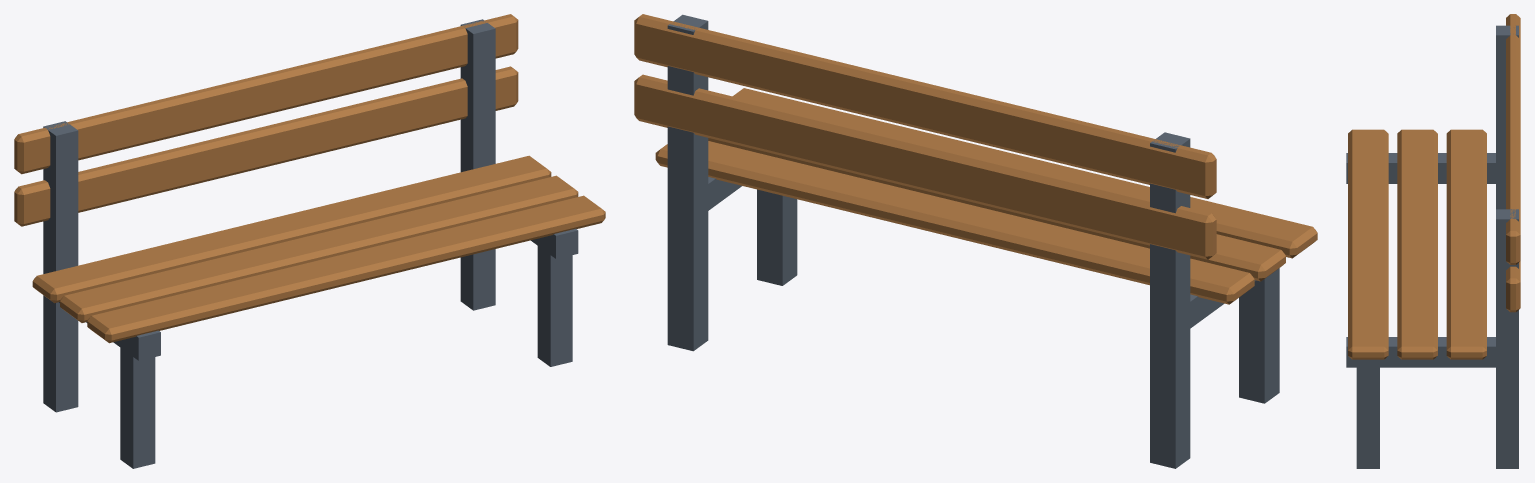
File: bench.glb
The picture shows the model from 3 angles, left to right: view 1: azimuth 30°, elevation 25°; view 2: azimuth 150°, elevation 25°; view 3: azimuth 270°, elevation 25°; orthographic projection. The views are drawn at different scales.
Visible parts, largest first — view 1: bench; view 2: bench; view 3: bench.
Boxes of the visible parts, <box> form: bench: <box>14,14,605,468</box>; bench: <box>634,14,1317,468</box>; bench: <box>1346,14,1520,468</box>.
Bounding box in the file's own units: 1.8 × 0.95 × 0.6.
